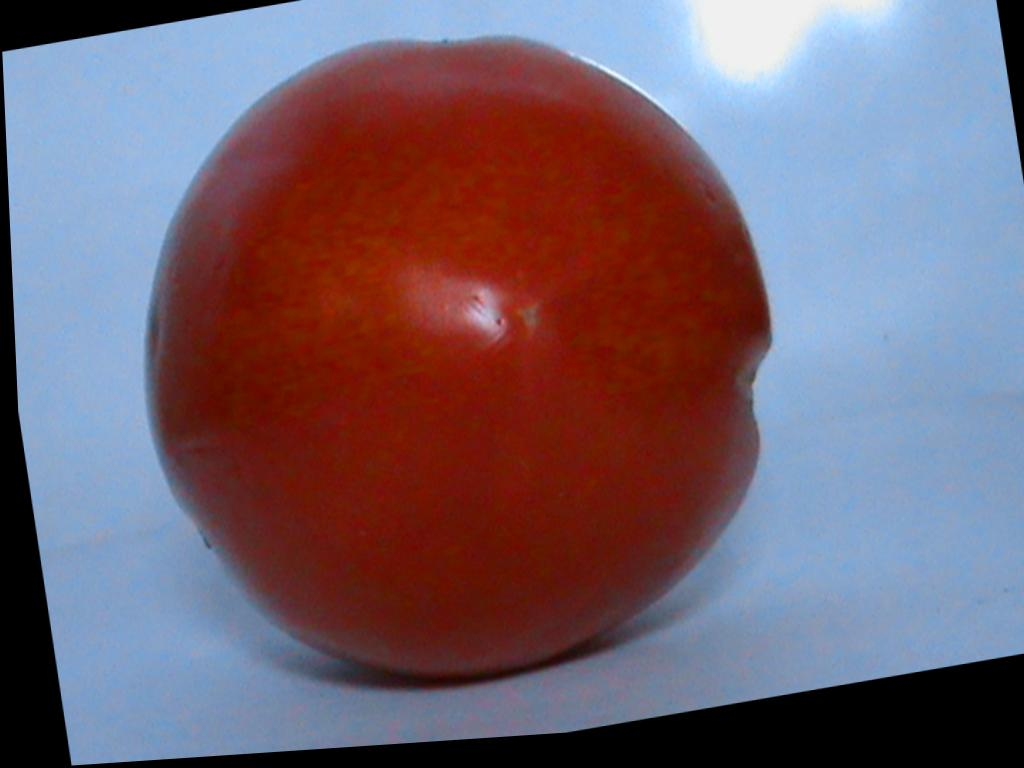surface_damage: (520, 215, 521, 218)
tomato: (145, 39, 769, 675)
